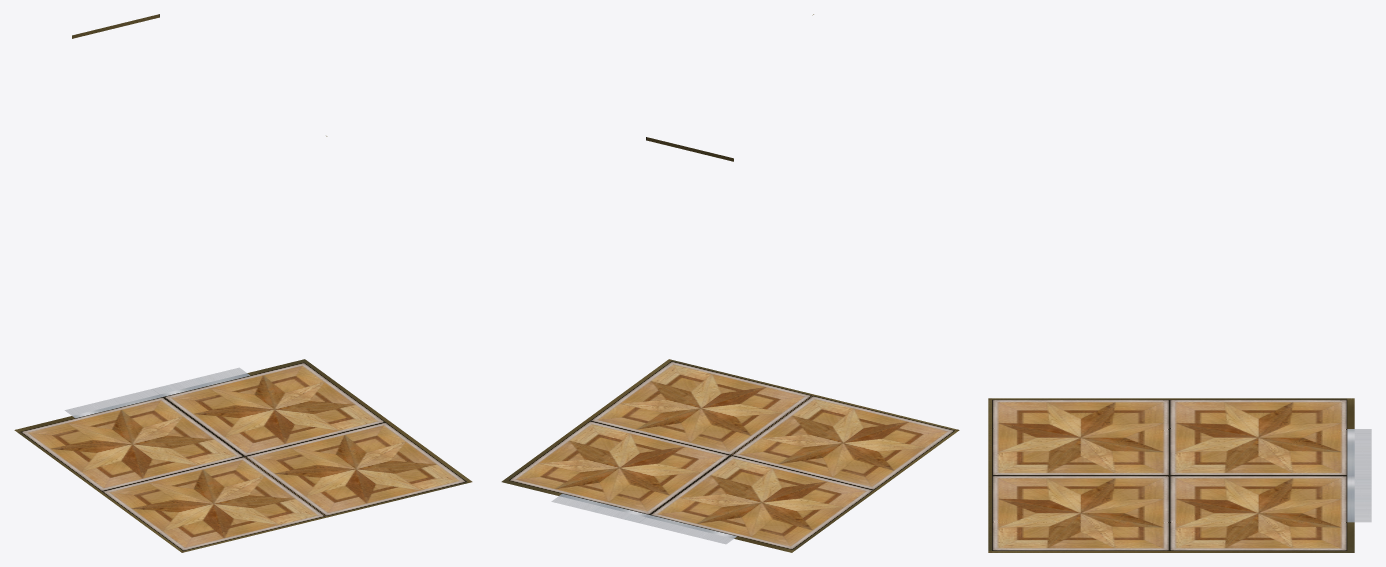
The model's file is liftlantai.obj.
3 renders of one model, left to right at view 1: azimuth 30°, elevation 25°; view 2: azimuth 150°, elevation 25°; view 3: azimuth 270°, elevation 25°, orthographic. The views are drawn at different scales.
Visible parts, largest first — view 1: 2x2x2,5; view 2: 2x2x2,5; view 3: 2x2x2,5.
Boxes of the visible parts, box(x1,y1,x2,y2) form: 2x2x2,5: box(14, 14, 472, 552); 2x2x2,5: box(501, 14, 959, 552); 2x2x2,5: box(988, 398, 1371, 552).
Bounding box in the file's own units: 2 × 2.5 × 2.09.
4 materials, 3 textured.
